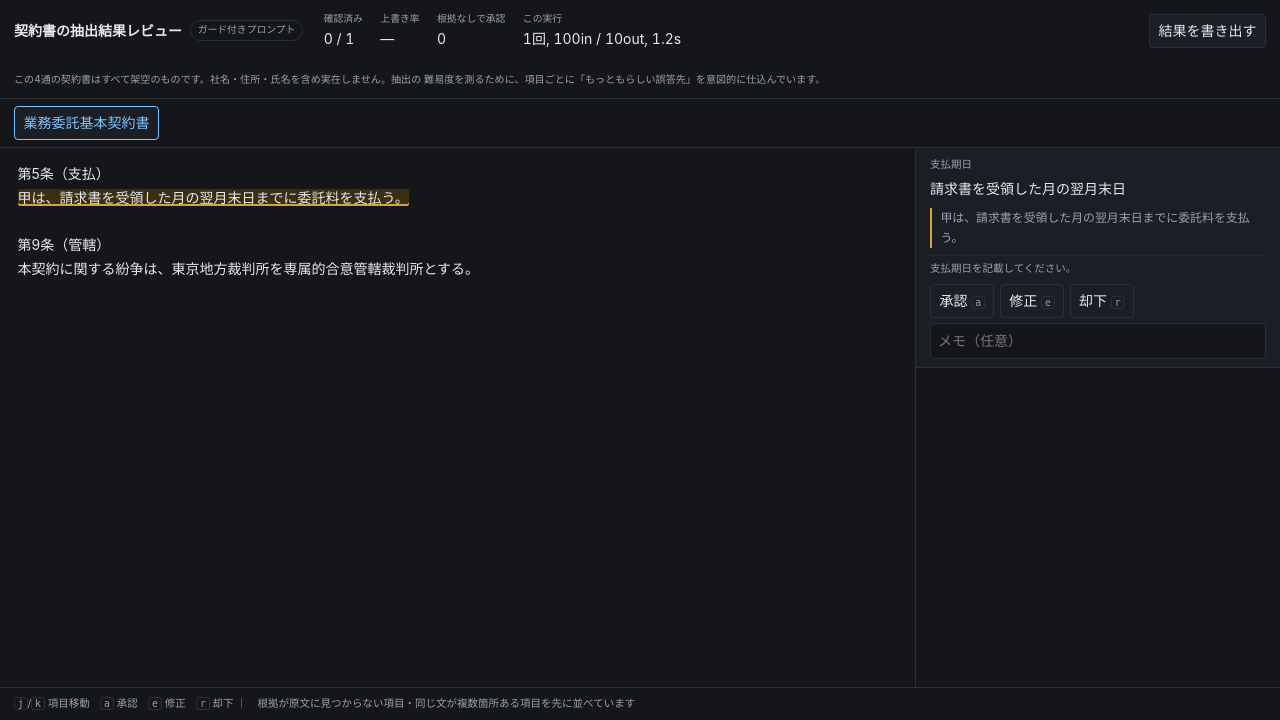
it: App › records an edited value as a correction
Click the button "修正 e" at (1032, 301), box [1000,284,1064,318]
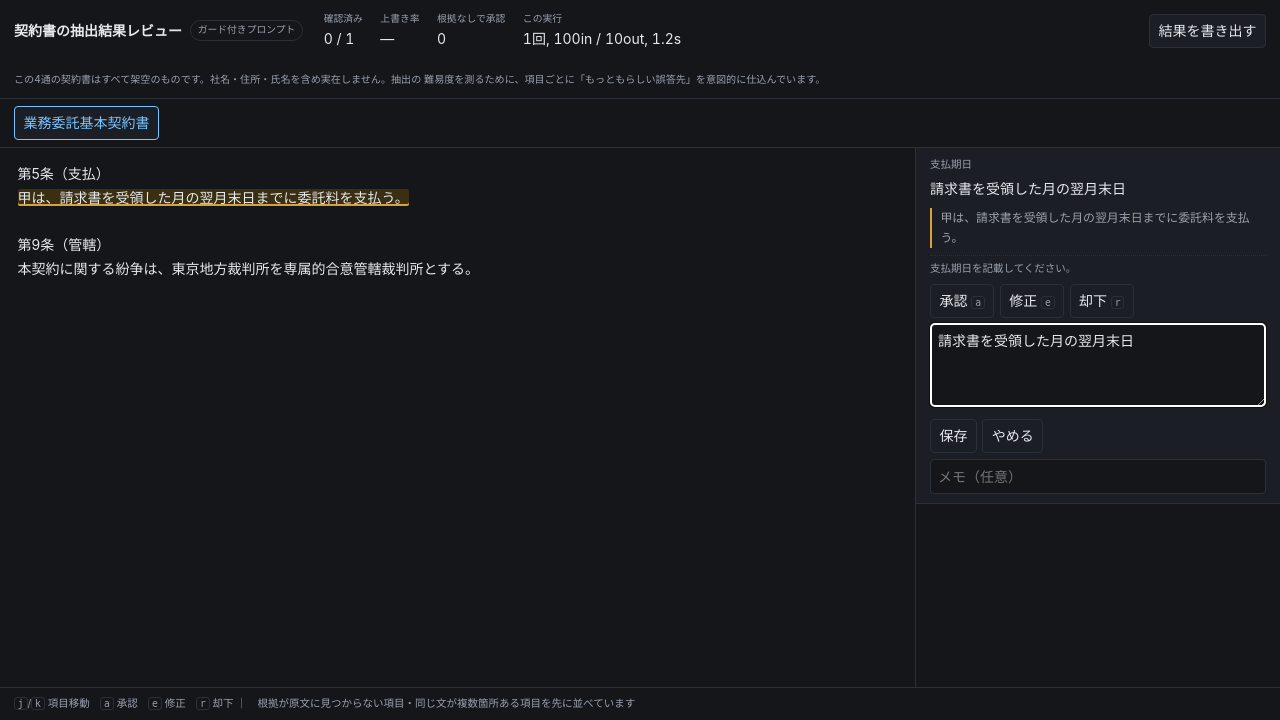
Replace the text in the text box named "支払期日の修正" with "翌月20日" at (1098, 365), box [930,323,1266,407]
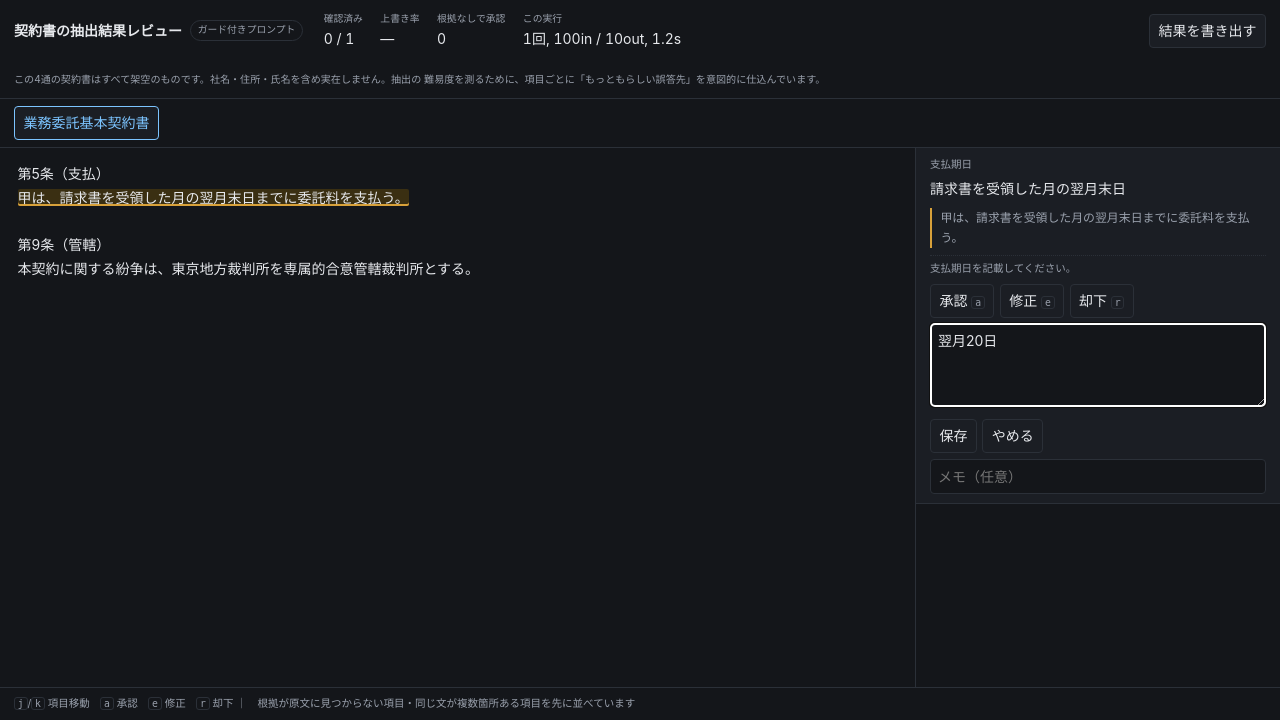
Click the button "保存" at (953, 436), box [930,419,977,453]
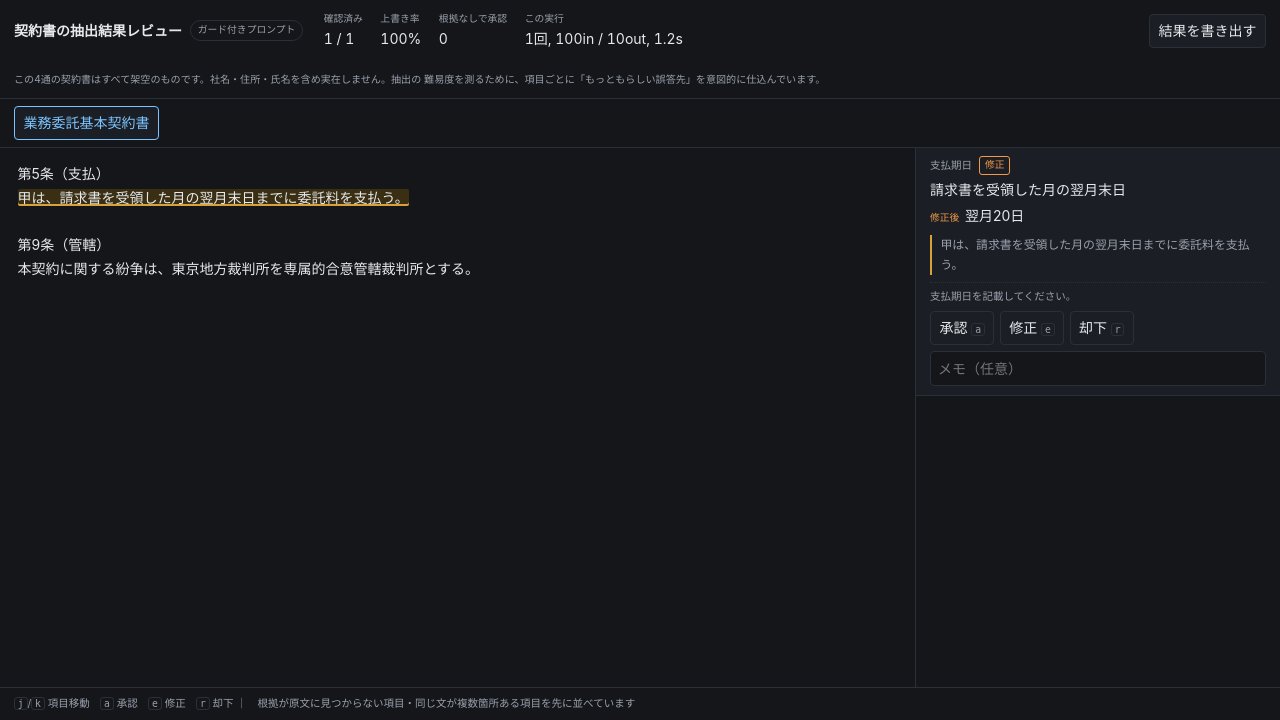
Check: the text "翌月20日" is shown, box [965,207,1024,224]
